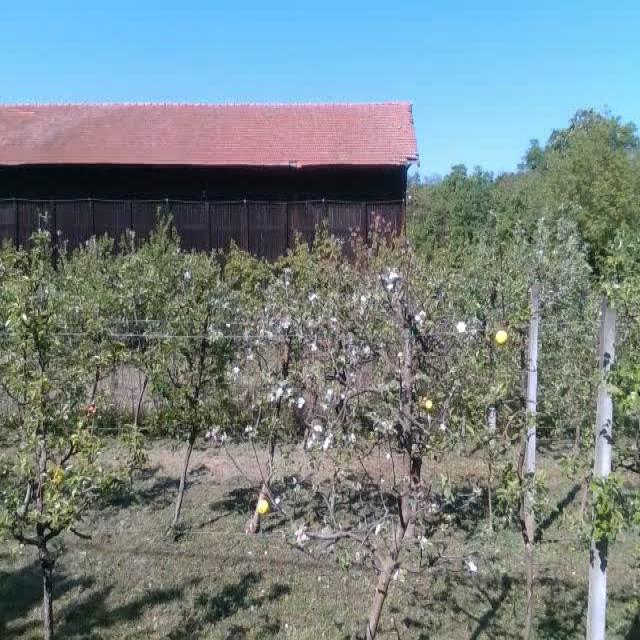red: (86, 401, 98, 417)
yellow: (494, 330, 509, 346), (257, 500, 269, 515), (422, 396, 432, 410)
